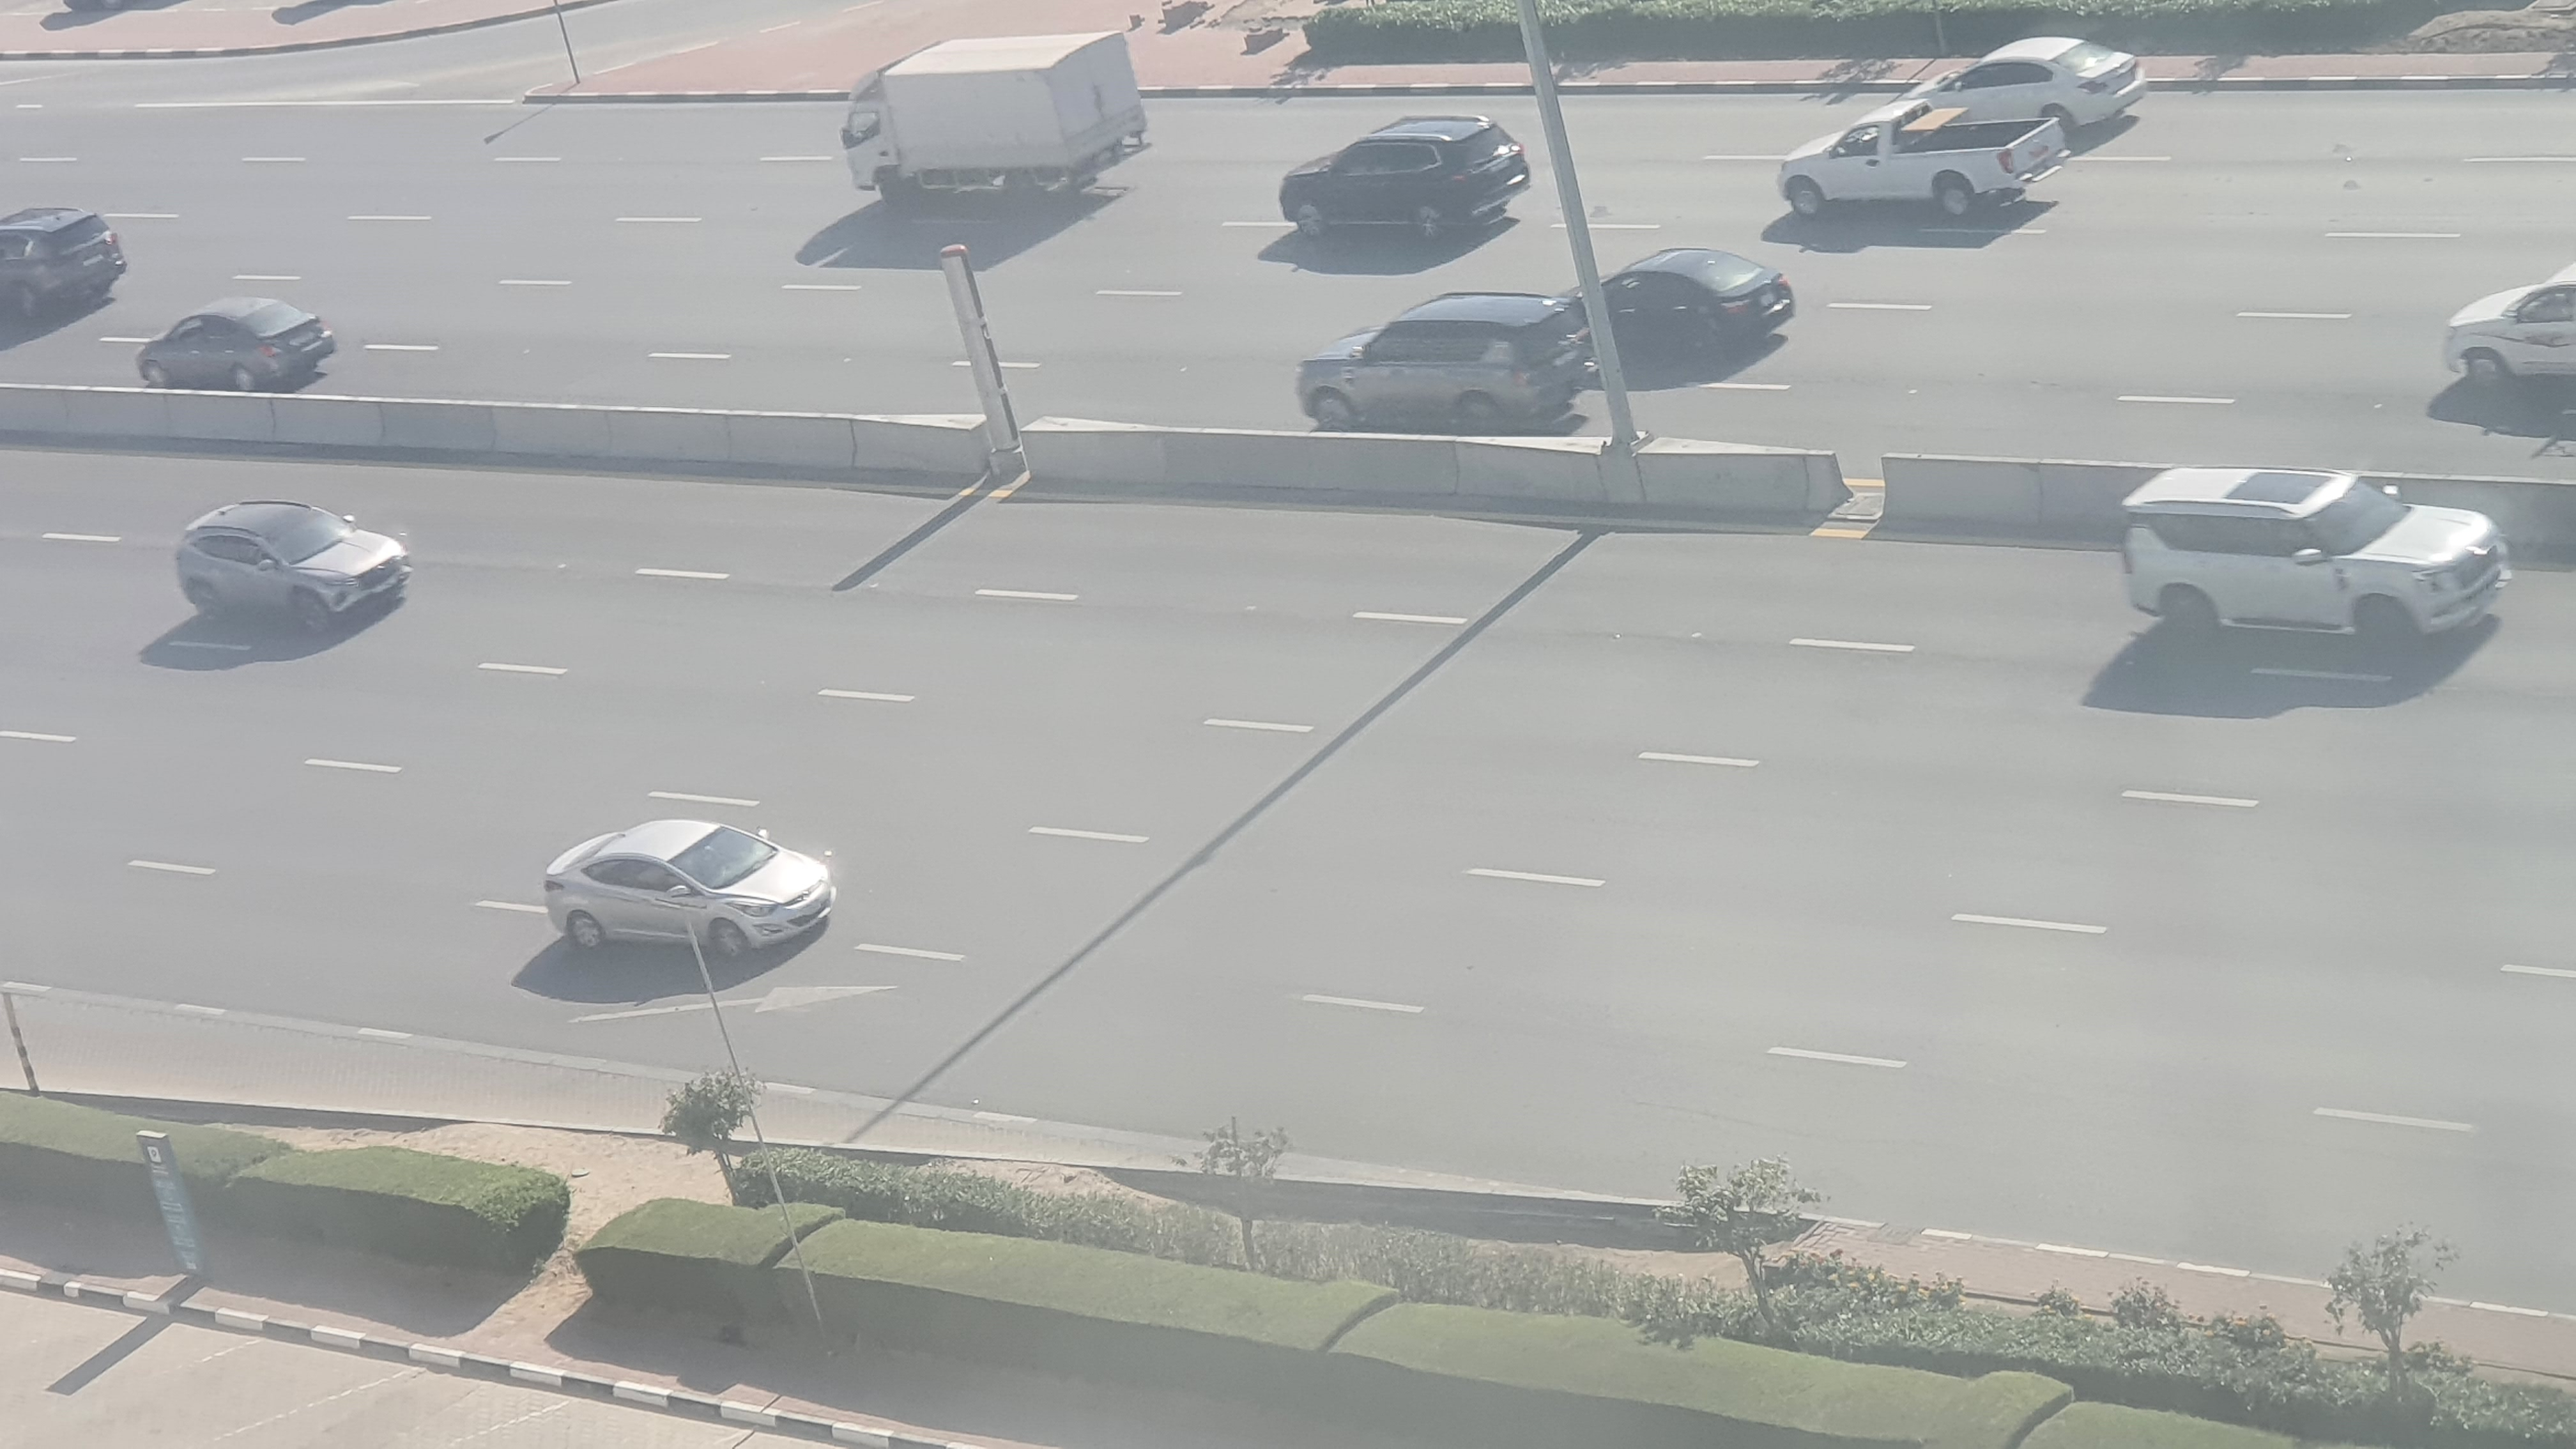NotSunroof: (529, 814, 839, 975)
Sunroof: (2118, 453, 2514, 660), (172, 501, 414, 628)
